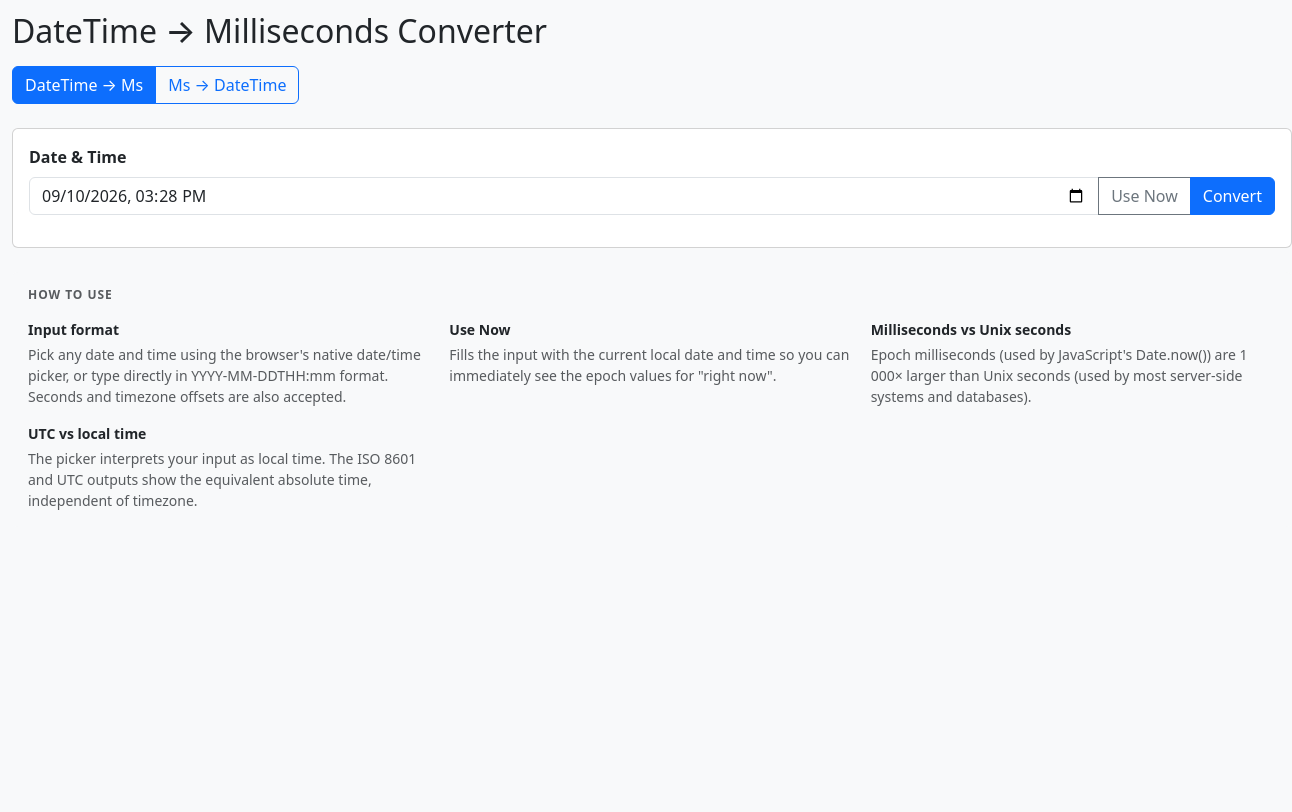
Test: MillisecondConverter › shows result rows after conversion
The width and height of the screenshot is (1292, 812).
Replace the text in the field named "DateTime input" with "2024-05-06T00:00" at (564, 196), box [29,177,1099,215]
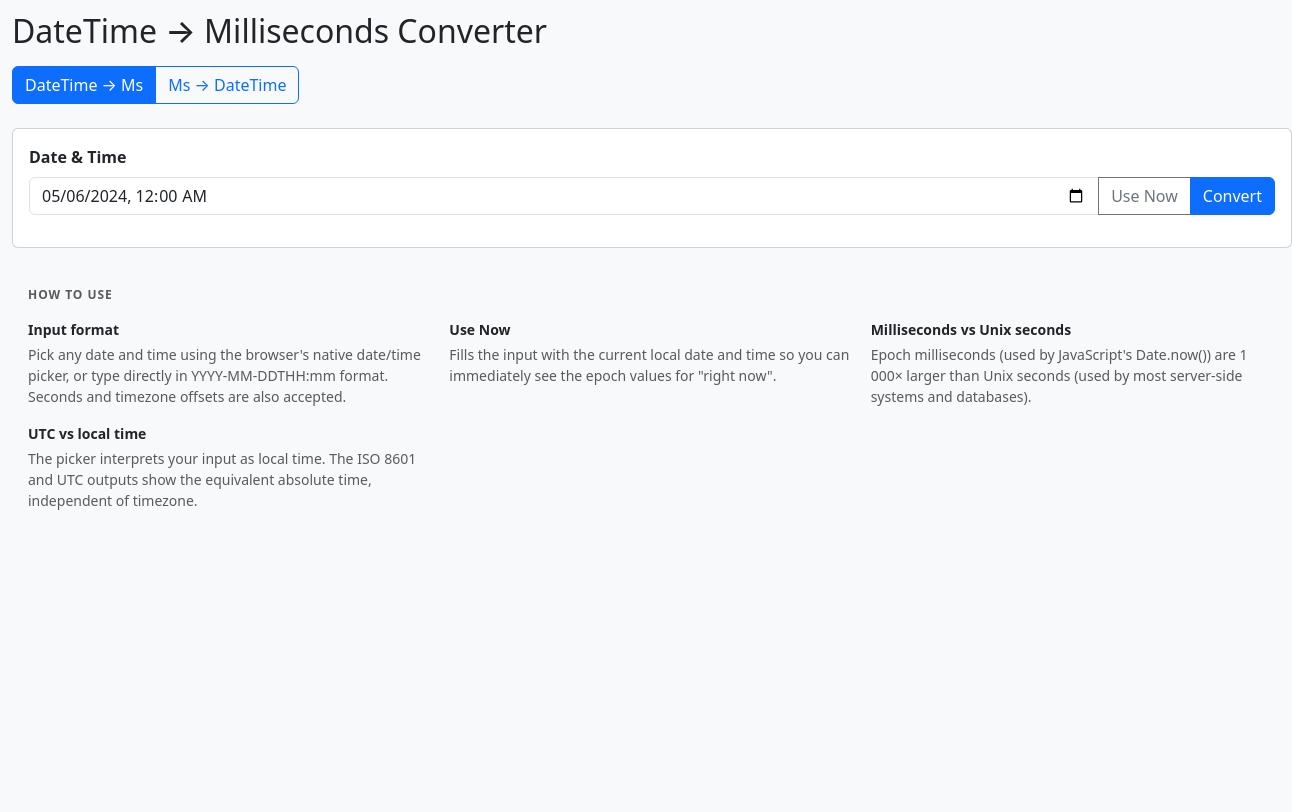
Click the button "Convert" at (1232, 196), box [1190,177,1275,215]
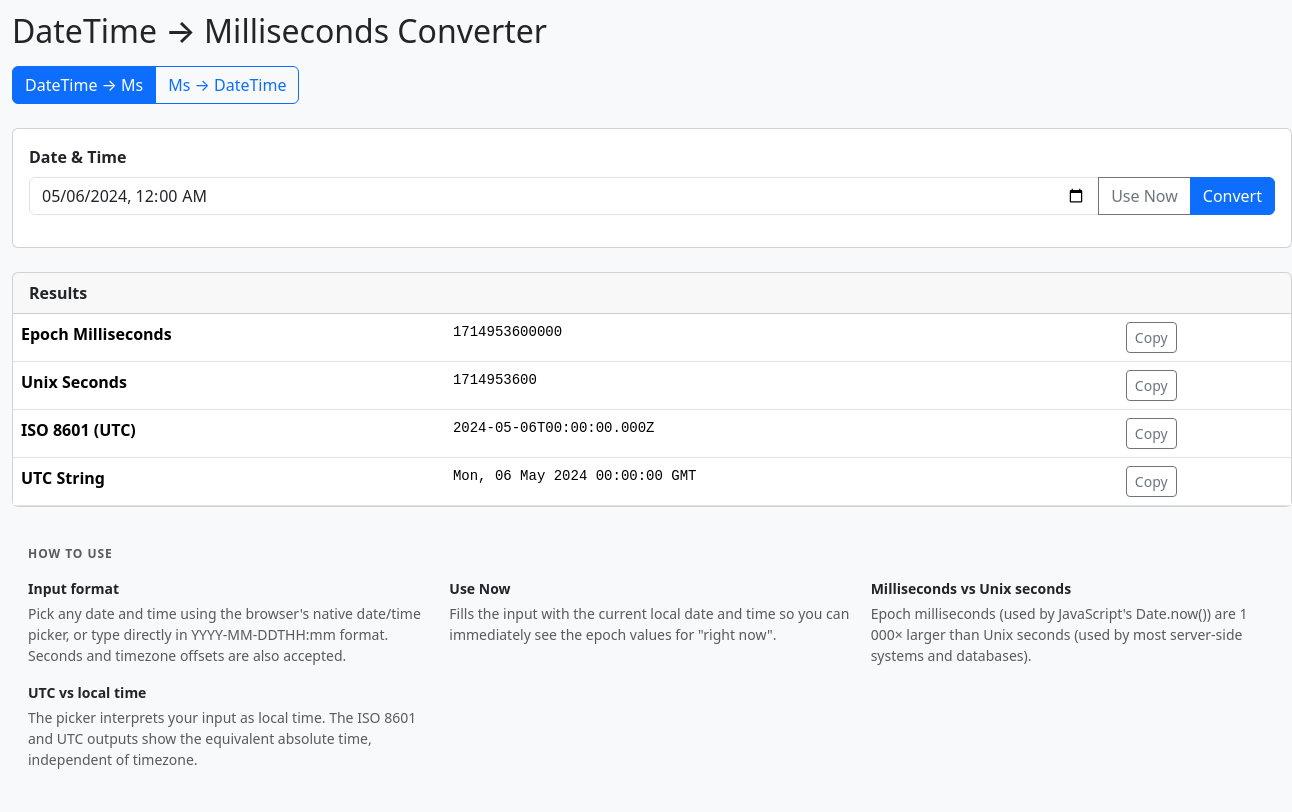
Result: the text "ISO 8601 (UTC)" is shown at [13,410,445,458]
Result: the text "UTC String" is shown at [13,458,445,506]
